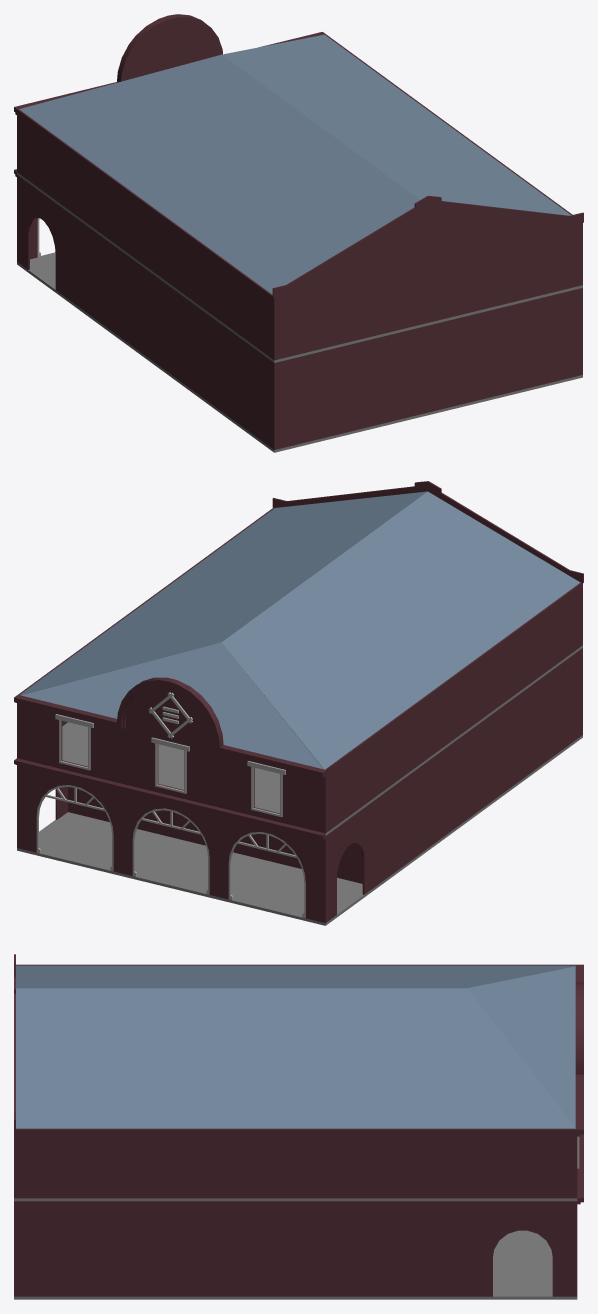
3 views of the same model, one above another, from view 1: azimuth 30°, elevation 25°; view 2: azimuth 150°, elevation 25°; view 3: azimuth 270°, elevation 25° (orthographic). The views are drawn at different scales.
Visible parts, largest first — view 1: 基本牆 (×7), 樓板 (×4); view 2: 樓板 (×5), 基本牆 (×14); view 3: 樓板 (×5), 基本牆 (×7).
Boxes of the visible parts, x1=… form: 基本牆 (×7): x1=14, y1=14, x2=583, y2=449; 樓板 (×4): x1=17, y1=34, x2=582, y2=452; 樓板 (×5): x1=17, y1=491, x2=582, y2=925; 基本牆 (×14): x1=14, y1=481, x2=583, y2=922; 樓板 (×5): x1=14, y1=965, x2=577, y2=1299; 基本牆 (×7): x1=14, y1=954, x2=583, y2=1296.
Size of the model in its own units: 59.42 by 86.29 by 40.
